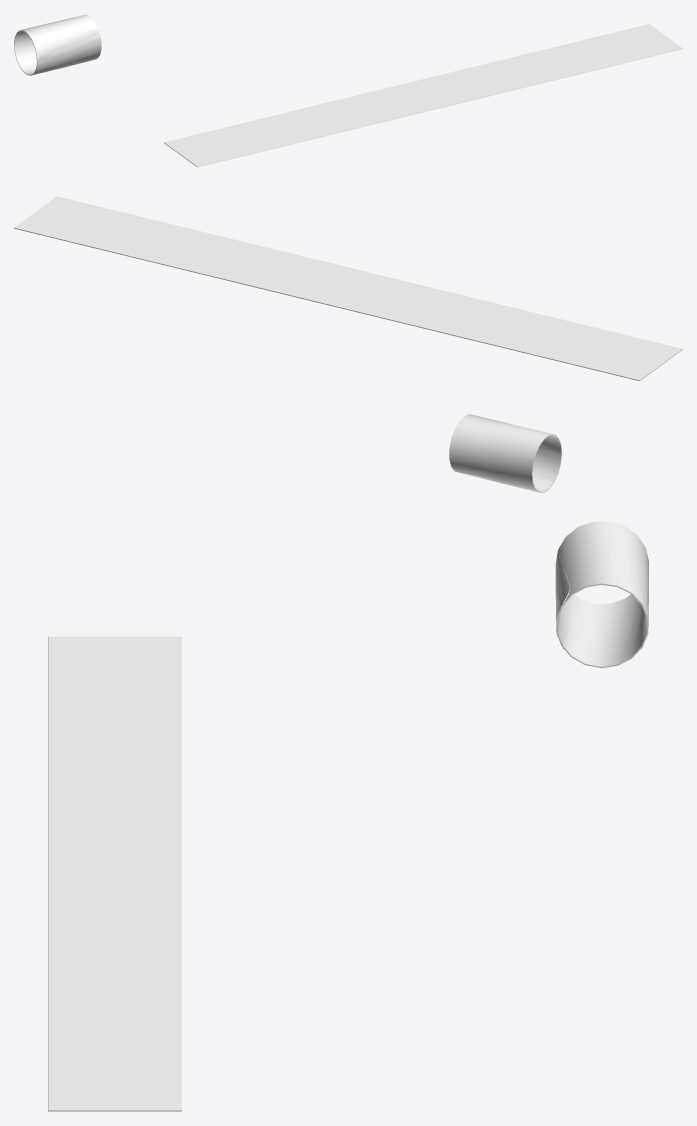
3 renders of one model, top to bottom at view 1: azimuth 30°, elevation 25°; view 2: azimuth 150°, elevation 25°; view 3: azimuth 270°, elevation 25°, orthographic. The views are drawn at different scales.
Visible parts, largest first — view 1: Blend, Blend1; view 2: Blend, Blend1; view 3: Blend, Blend1.
Part boxes in pixels (<box>): Blend: <box>164,24,682,167</box>; Blend1: <box>14,14,101,75</box>; Blend: <box>14,196,682,381</box>; Blend1: <box>449,414,561,492</box>; Blend: <box>48,636,181,1111</box>; Blend1: <box>555,521,648,668</box>.
Size of what is drawn, in the model's own units: 829 by 64.66 by 416.
